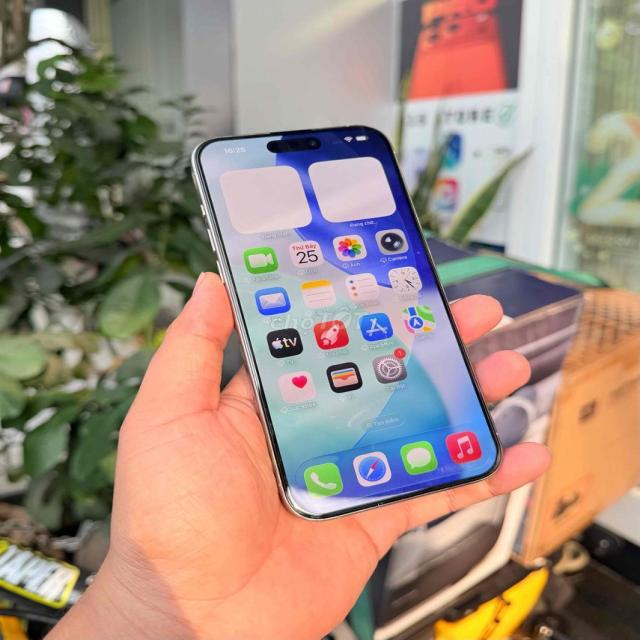gen_15: (188, 98, 498, 525)
